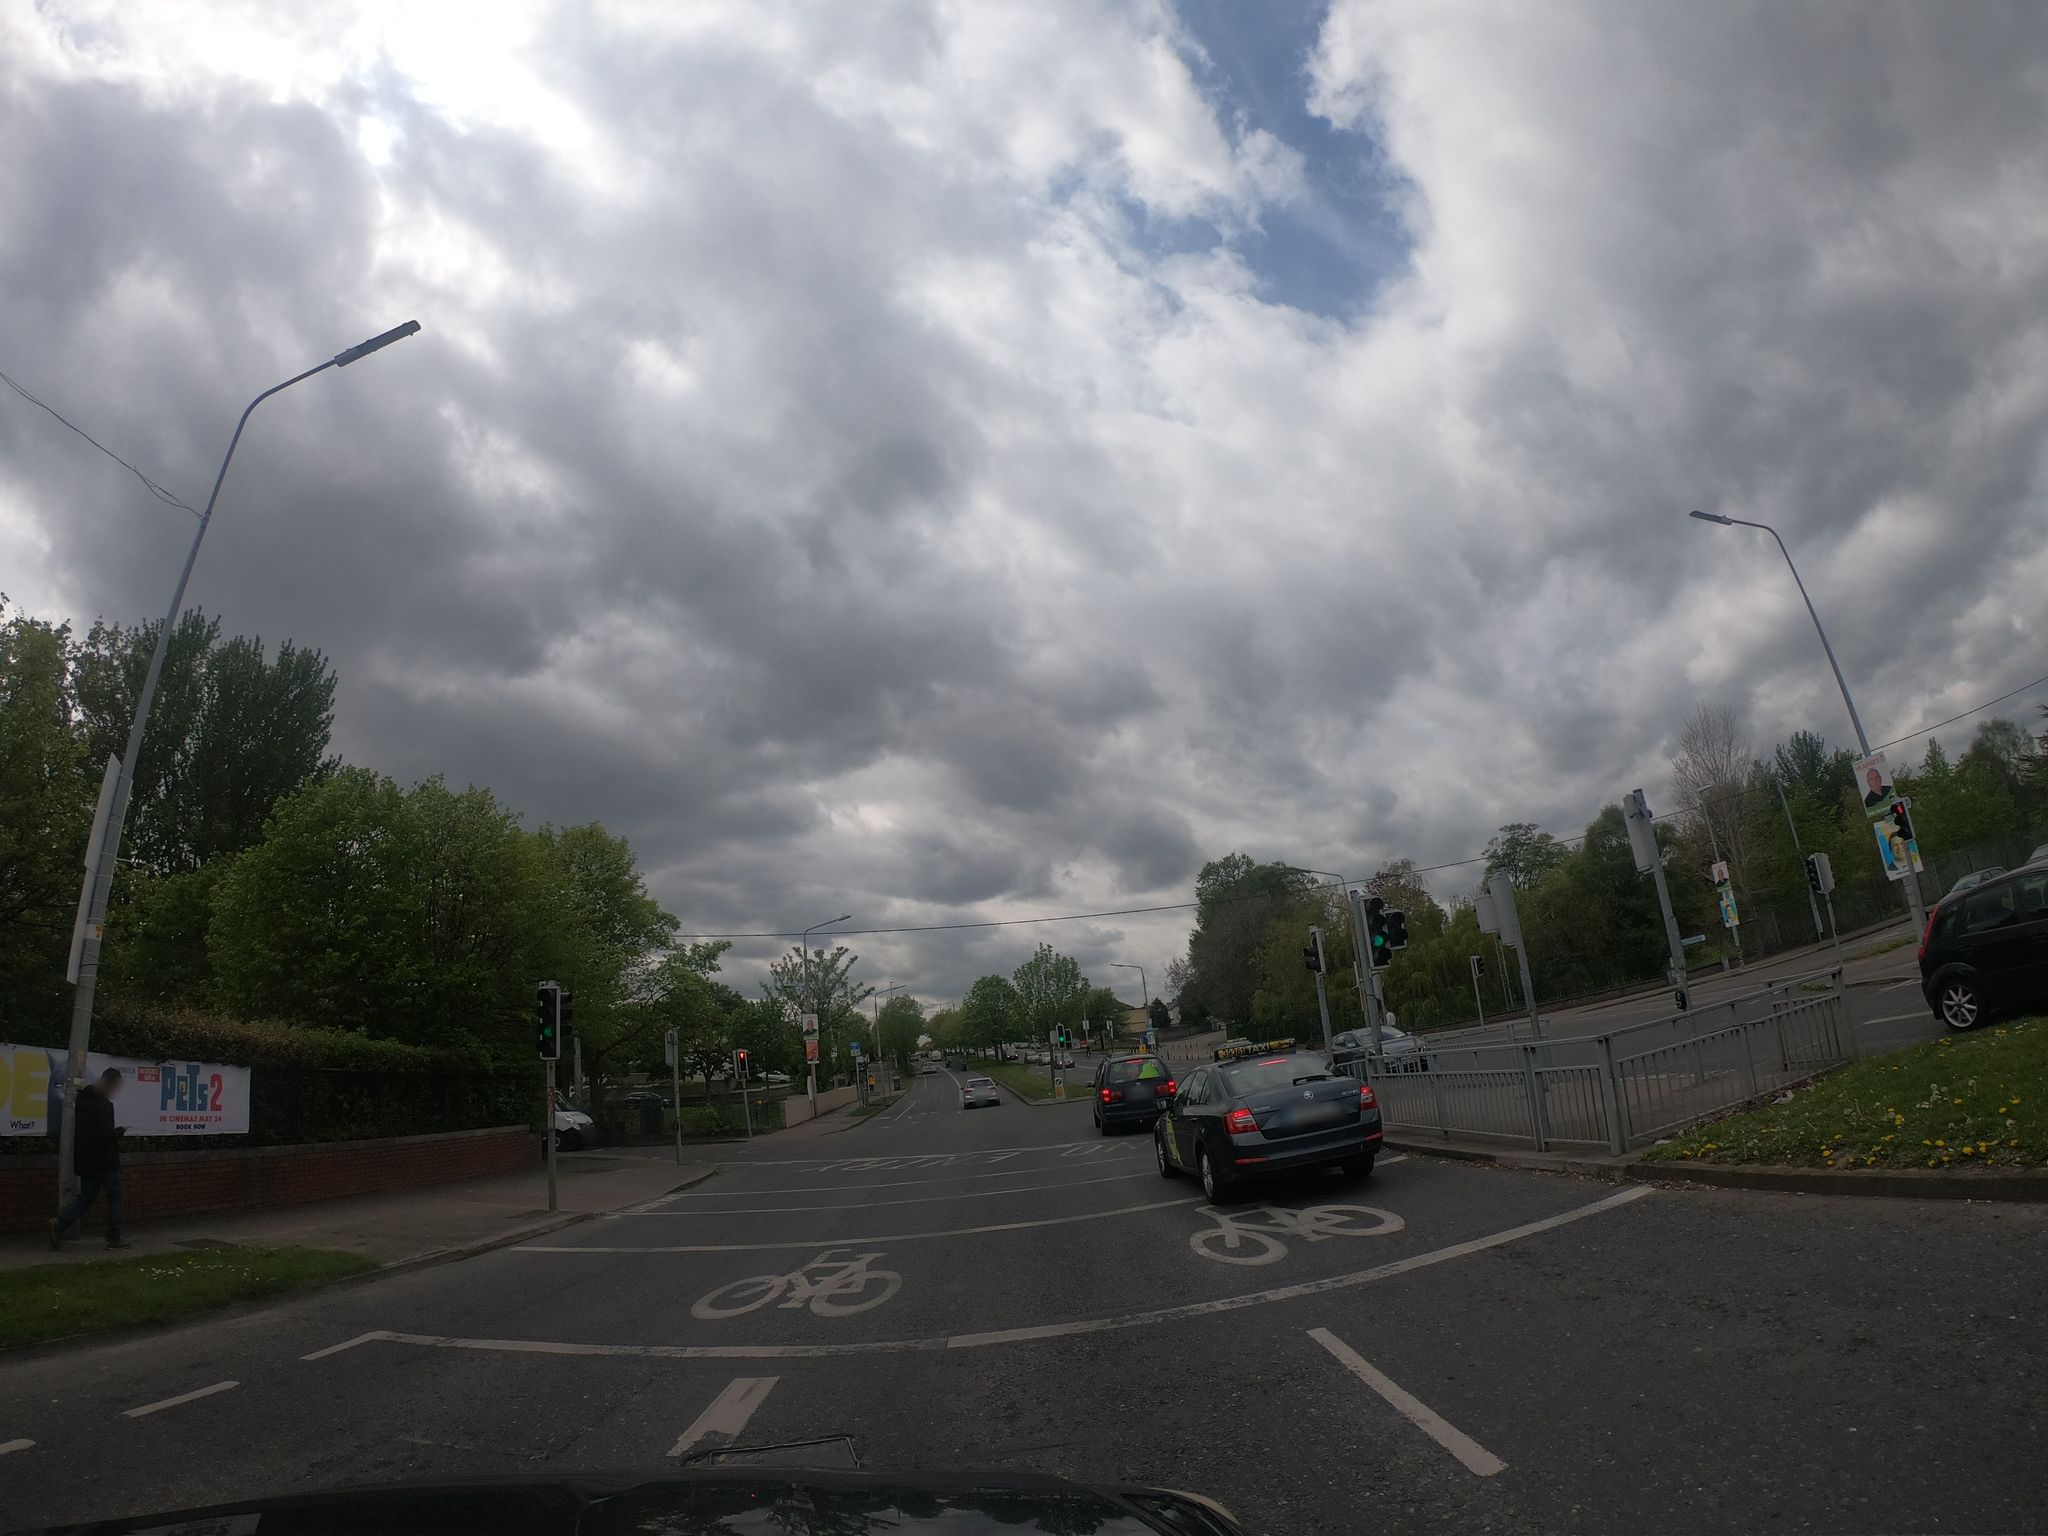vinyl banner: (3, 1025, 261, 1155)
